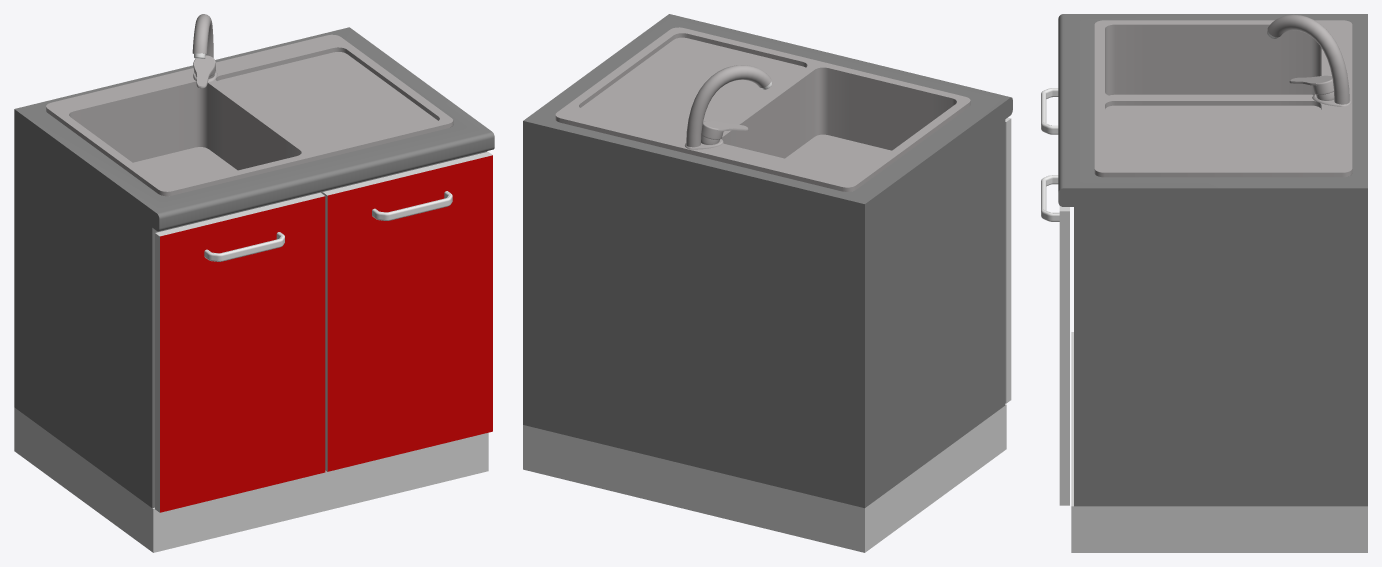
The model's file is sweethome3d-lucapresidente-sink.glb.
The picture shows the model from 3 angles, left to right: view 1: azimuth 30°, elevation 25°; view 2: azimuth 150°, elevation 25°; view 3: azimuth 270°, elevation 25°; orthographic projection. The views are drawn at different scales.
Parts seen in each view (by area): view 1: Box282_7, Box272_4, Rectangle11_11, Rectangle10_12, Line50_9, Box30_10, Box273_5, Box27_3, Box28_6, Box283_8, Loft10_1, Loft11_2 (+1 smaller); view 2: Rectangle11_11, Rectangle10_12, Box30_10, Line50_9, Box273_5, Loft02_13; view 3: Rectangle11_11, Rectangle10_12, Line50_9, Box30_10, Box283_8, Loft02_13, Loft11_2, Loft10_1.
Boxes of the visible parts, x1,y1,x2,y2 form: Box282_7: (327, 155, 492, 471); Box272_4: (160, 196, 325, 512); Rectangle11_11: (14, 127, 487, 508); Rectangle10_12: (46, 34, 453, 196); Line50_9: (14, 27, 494, 231); Box30_10: (14, 407, 488, 552); Box273_5: (155, 233, 159, 512); Box27_3: (155, 192, 324, 236); Box28_6: (323, 152, 492, 195); Box283_8: (322, 192, 327, 471); Loft10_1: (204, 232, 284, 261); Loft11_2: (372, 191, 452, 220); Rectangle11_11: (523, 119, 1005, 508); Rectangle10_12: (555, 27, 970, 191); Box30_10: (523, 404, 1006, 552); Line50_9: (523, 14, 1012, 221); Box273_5: (1005, 119, 1011, 403); Loft02_13: (686, 65, 771, 147); Rectangle11_11: (1074, 207, 1367, 506); Rectangle10_12: (1094, 20, 1352, 177); Line50_9: (1058, 14, 1367, 206); Box30_10: (1071, 332, 1367, 552); Box283_8: (1059, 211, 1069, 505); Loft02_13: (1267, 14, 1349, 104); Loft11_2: (1041, 175, 1059, 221); Loft10_1: (1041, 88, 1058, 134).
Bounding box in the file's own units: 80 × 94.97 × 63.38.
